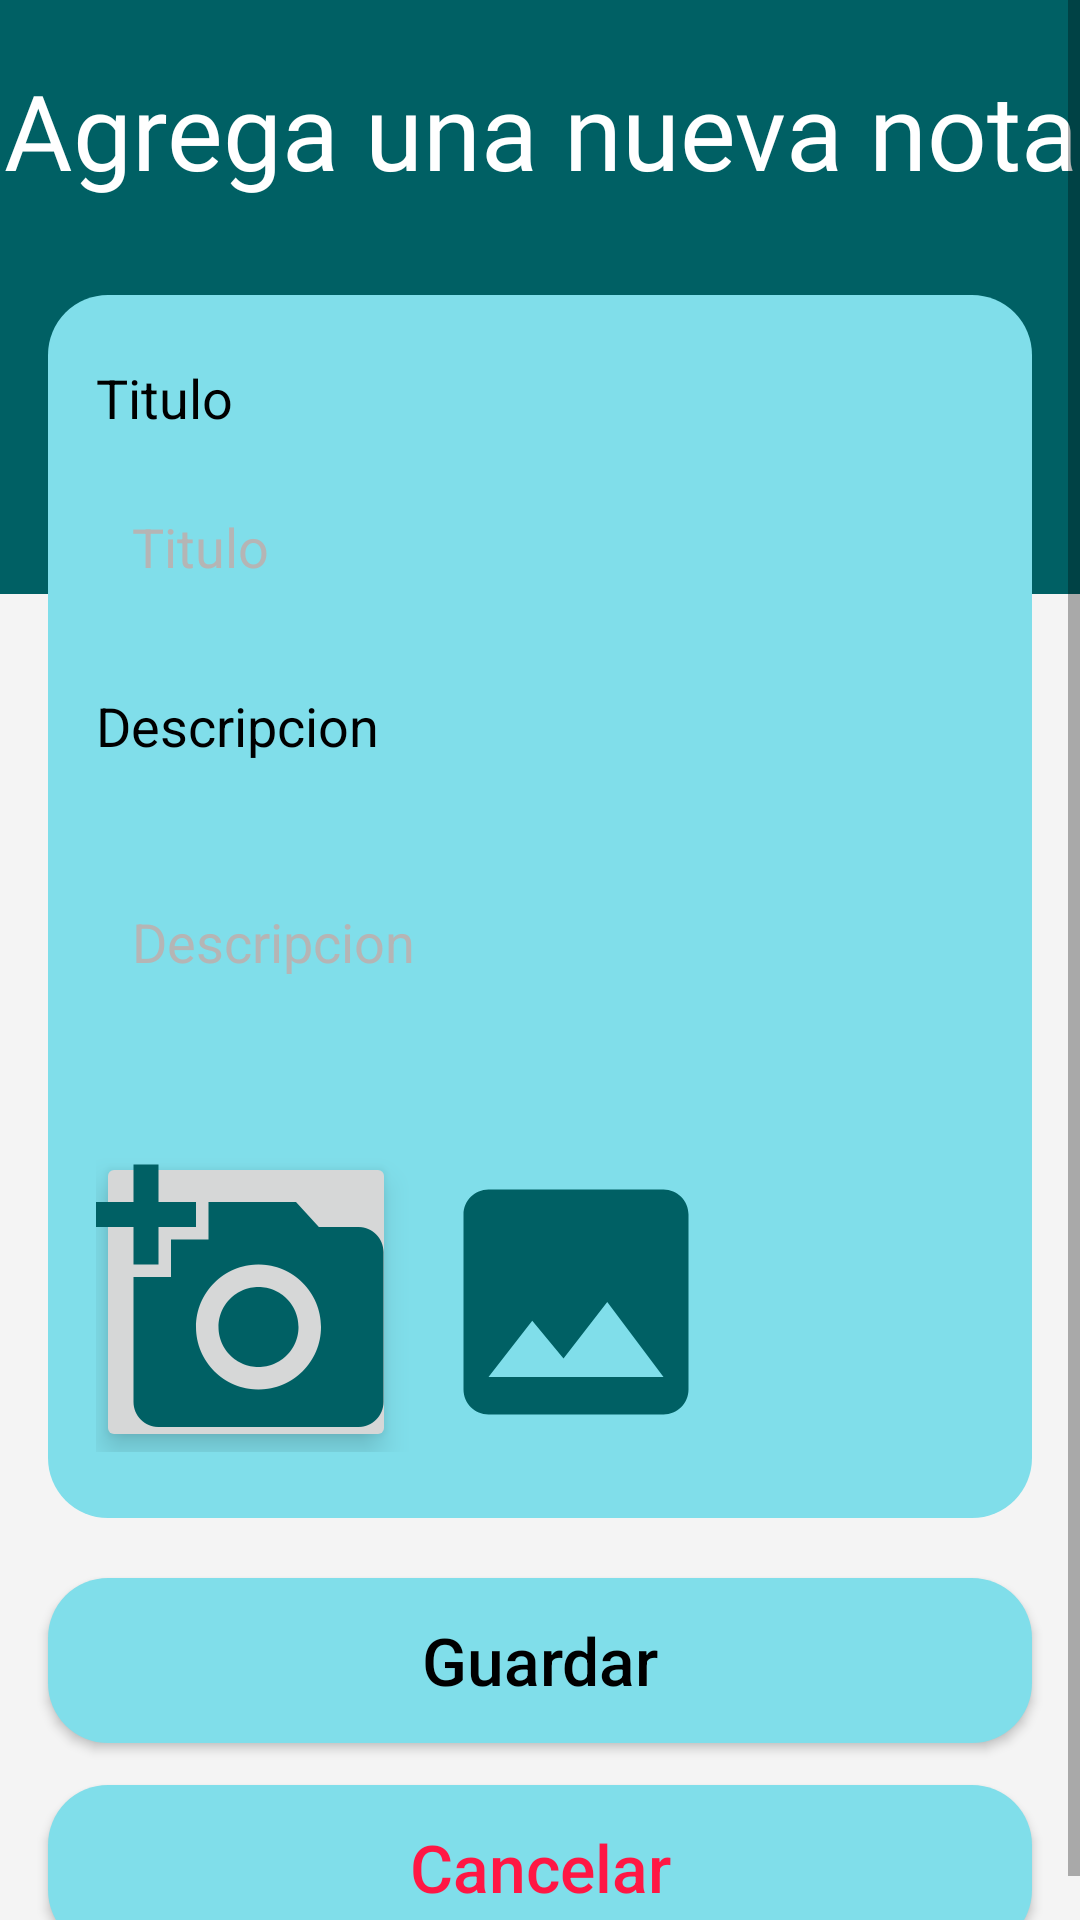

Where icons sit on this 1080*1920 app screen, as {"x1": x1, "y1": y1, "x2": x2, "y2": y2}:
add photo: {"x1": 96, "y1": 1164, "x2": 384, "y2": 1444}
